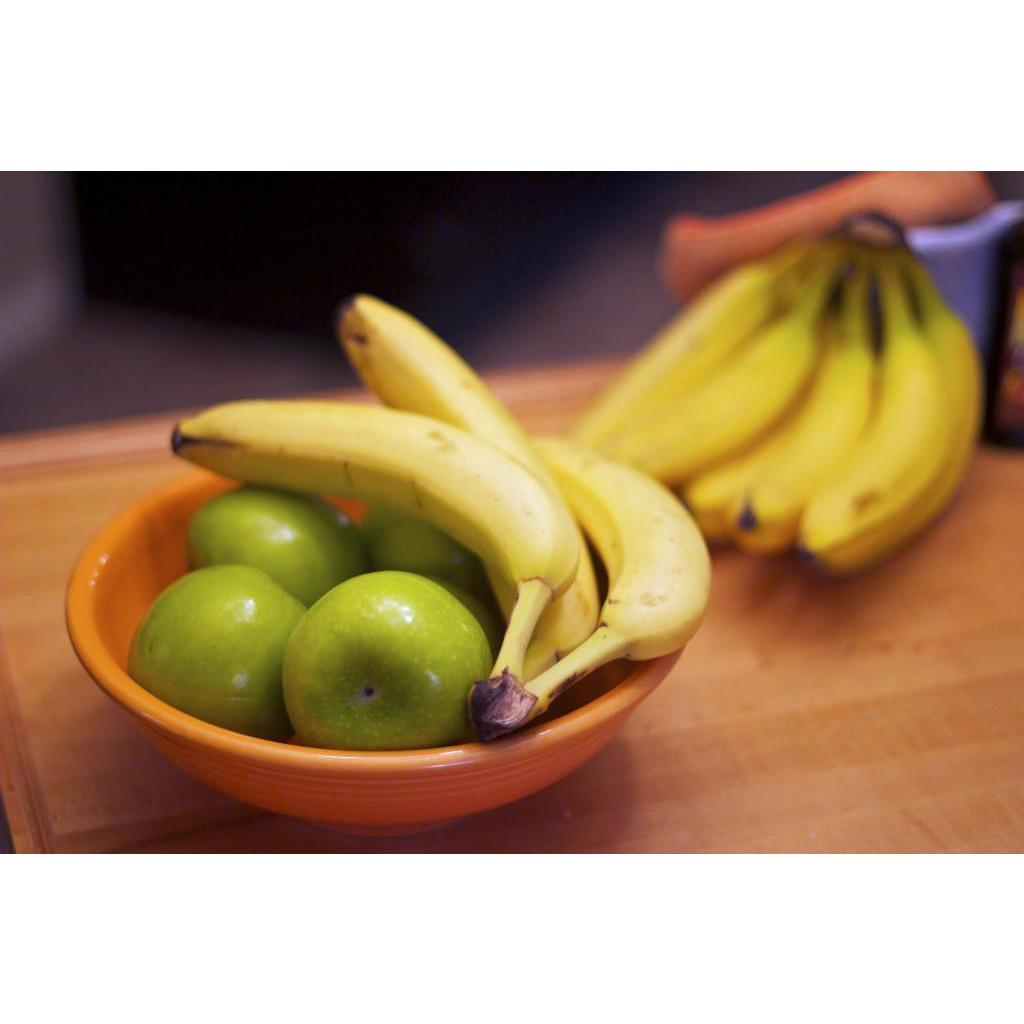banana: (170, 400, 585, 680), (532, 437, 714, 674)
